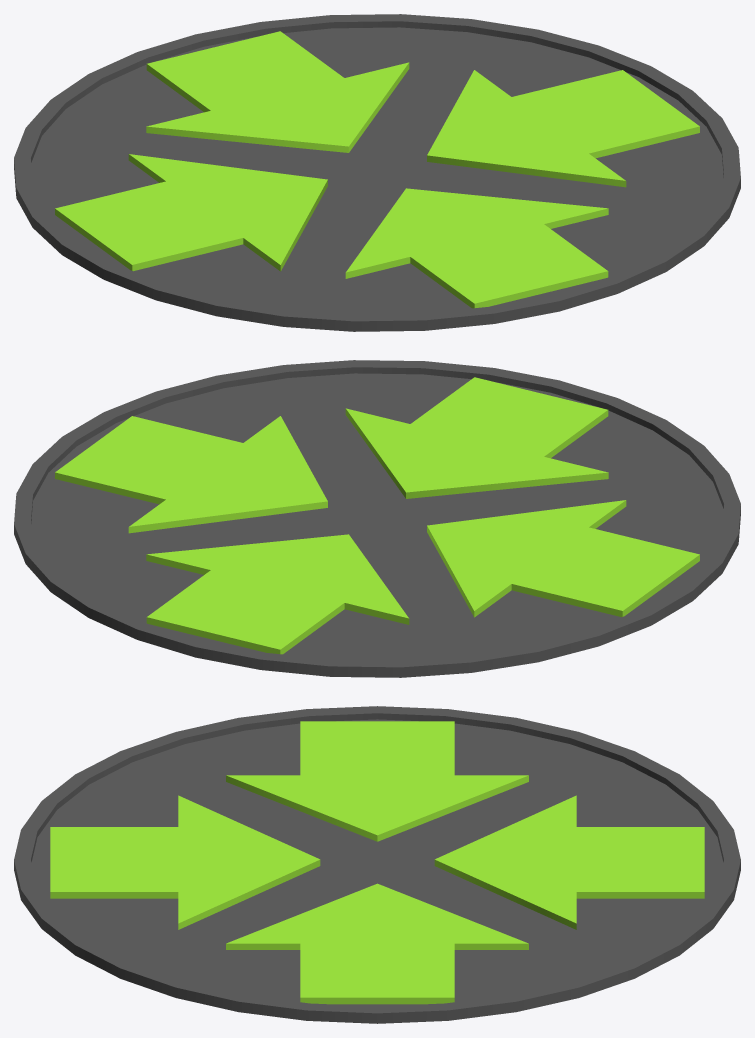
Rendered from LevelExit.fbx.
The picture shows the model from 3 angles, top to bottom: view 1: azimuth 30°, elevation 25°; view 2: azimuth 150°, elevation 25°; view 3: azimuth 270°, elevation 25°; orthographic projection.
Visible parts, largest first — view 1: Base, Arrows; view 2: Base, Arrows; view 3: Base, Arrows.
Part boxes in pixels (x1,y1,x2,y2): Base: (14, 14, 740, 331); Arrows: (55, 31, 699, 308); Base: (14, 360, 740, 677); Arrows: (55, 377, 699, 654); Base: (14, 706, 740, 1023); Arrows: (50, 721, 704, 1004).
Bounding box in the file's own units: 2 × 0.0327 × 2.
